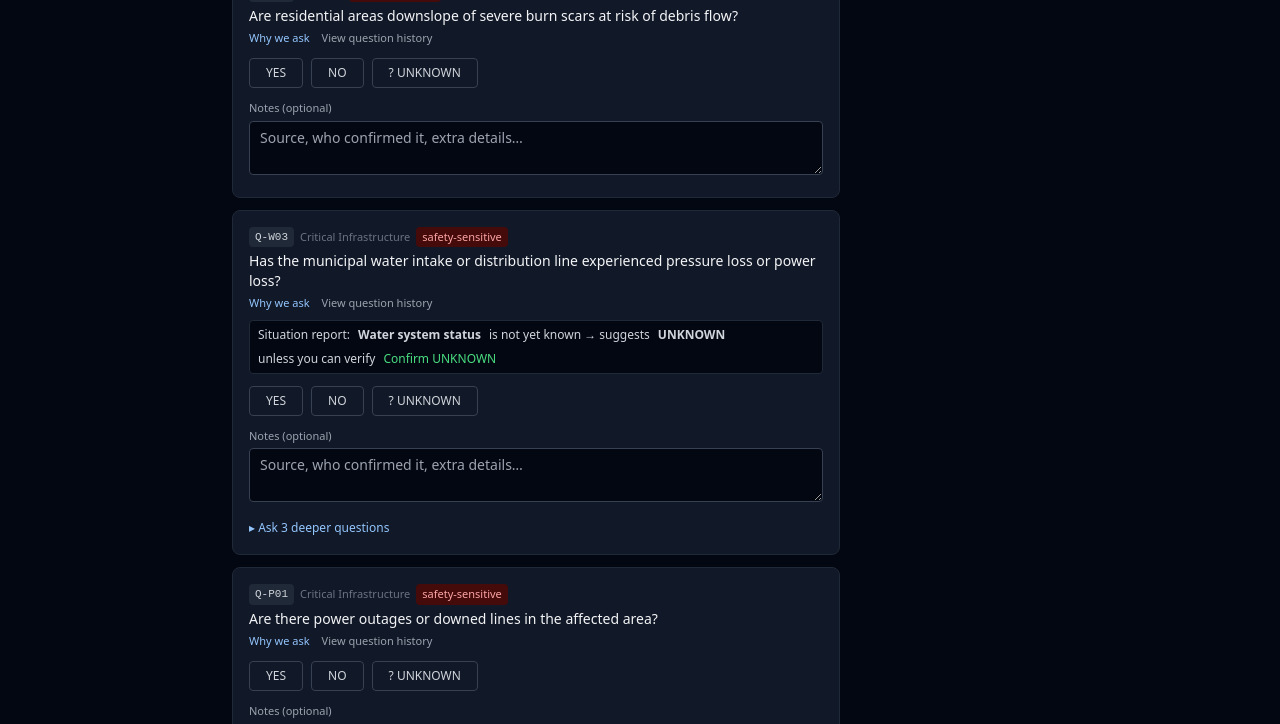
Test: the AI receives answers, notes, rules-engine results and the current plan; its output is labelled AI
Later steps or results of the test are not shown.
(page scrolled)
Click the radio button labelled "? UNKNOWN" below "Q-W03": (425, 400) top-left (372, 386), bottom-right (478, 416)
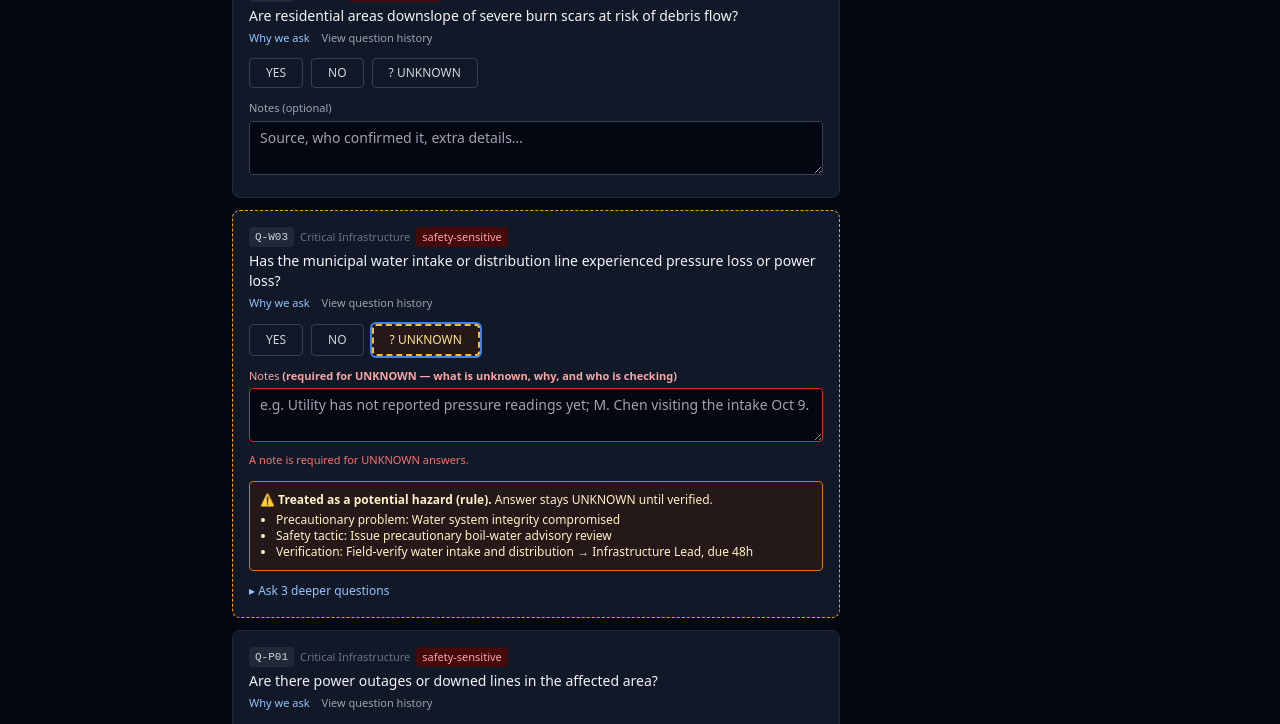
In the text box named "Note for Q-W03": (536, 415) top-left (249, 388), bottom-right (823, 442), type "No pressure readings yet"
(page scrolled)
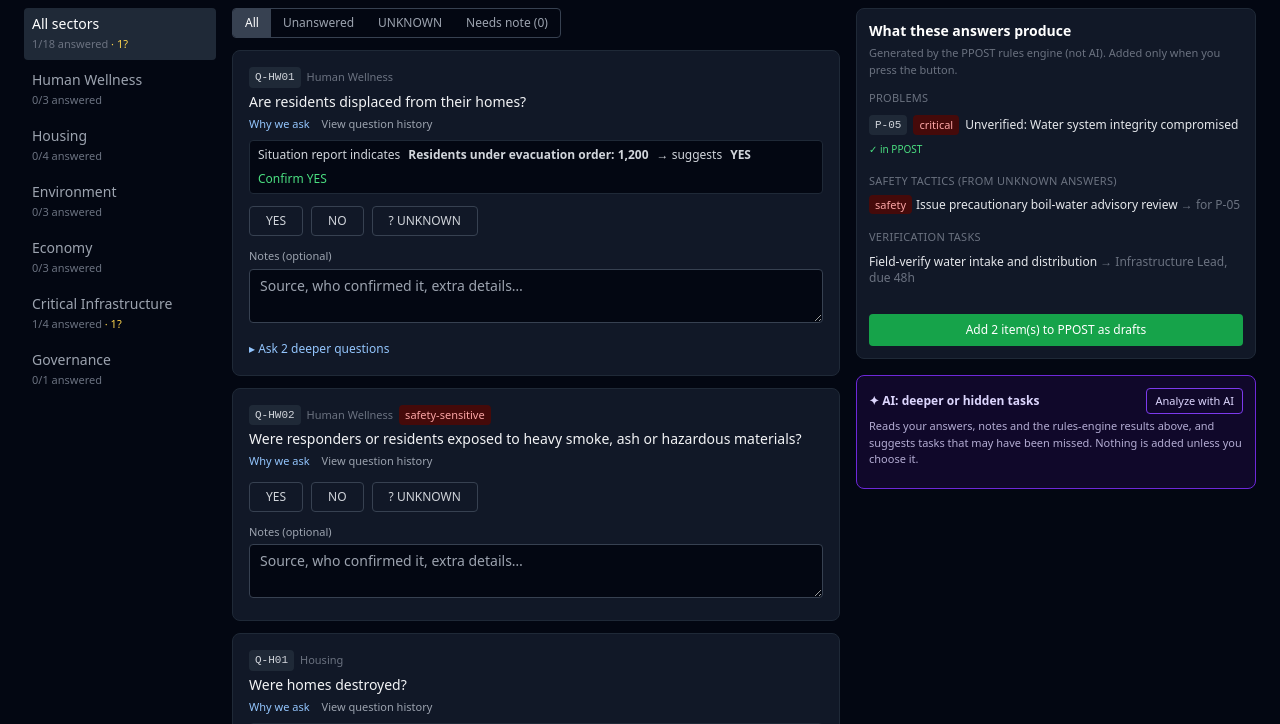
Click the button "Analyze with AI": (1195, 401) top-left (1146, 388), bottom-right (1243, 414)
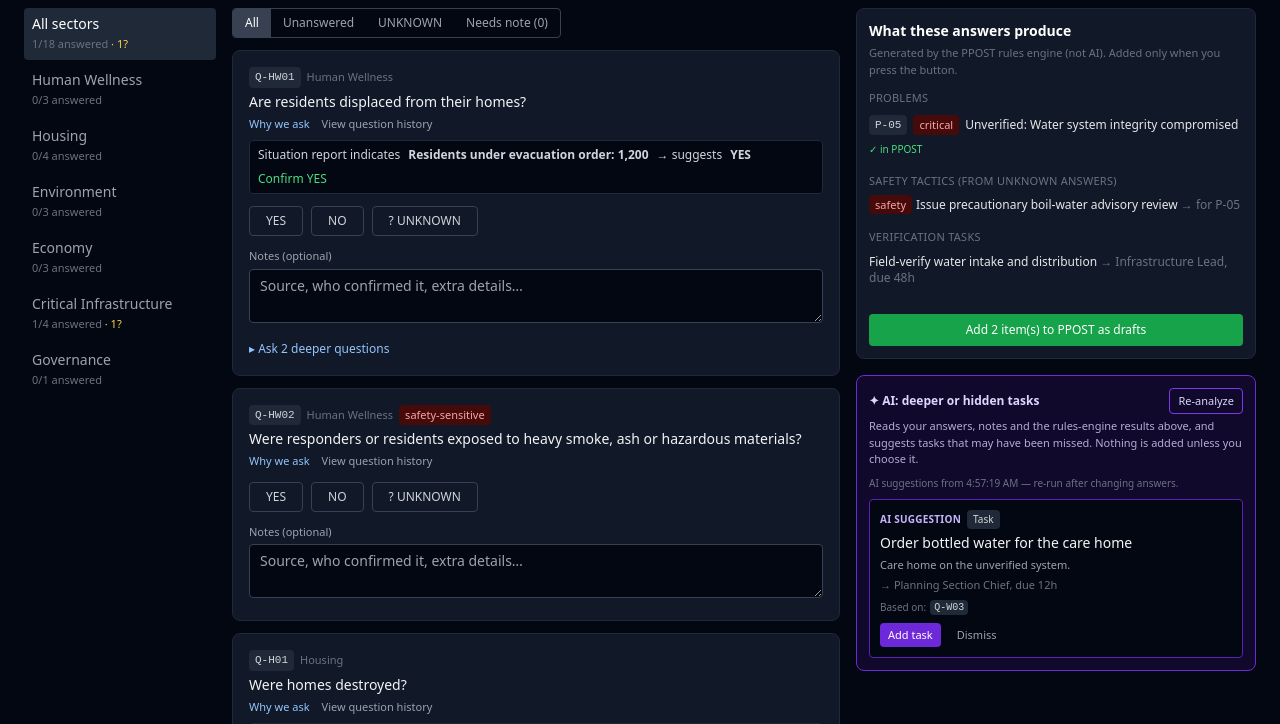
Result: the element "bottled water" shows "AI SUGGESTION" at top-left (880, 512), bottom-right (961, 526)
